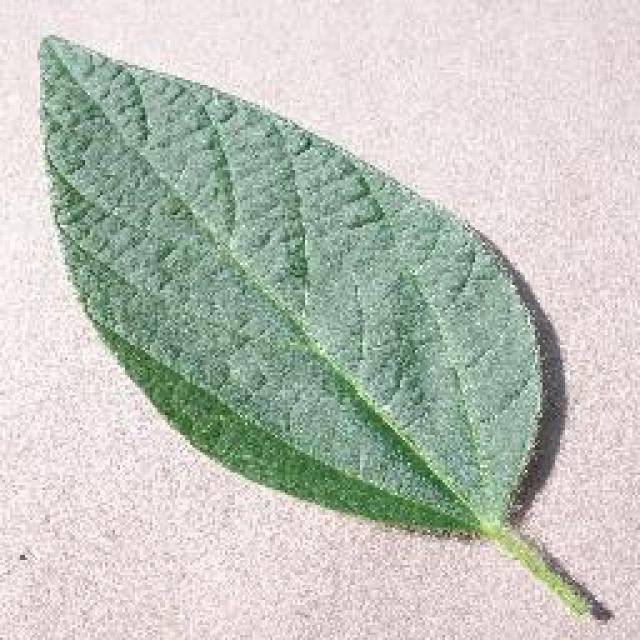Soy_healthy: (68, 66, 498, 477)
